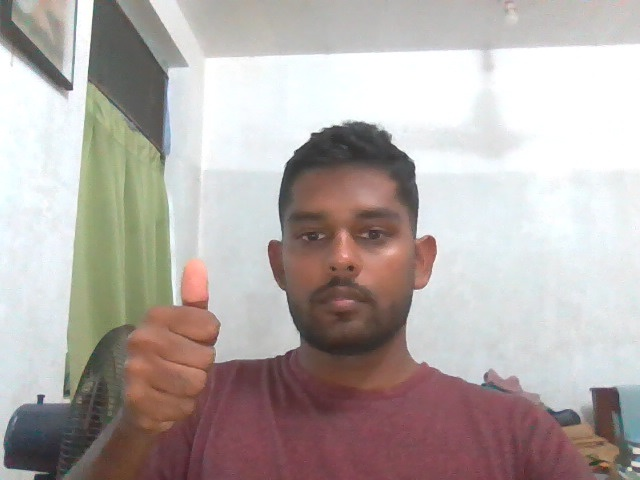good.: (95, 248, 218, 435)
